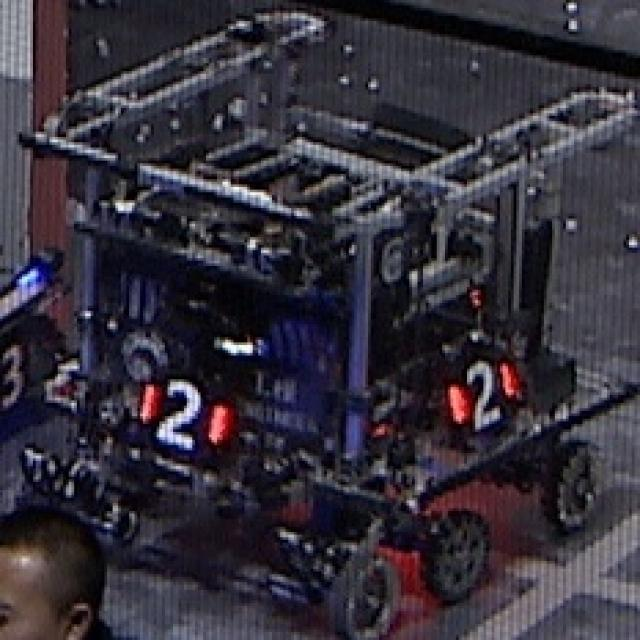R2: (135, 374, 228, 448), (448, 358, 522, 435)
